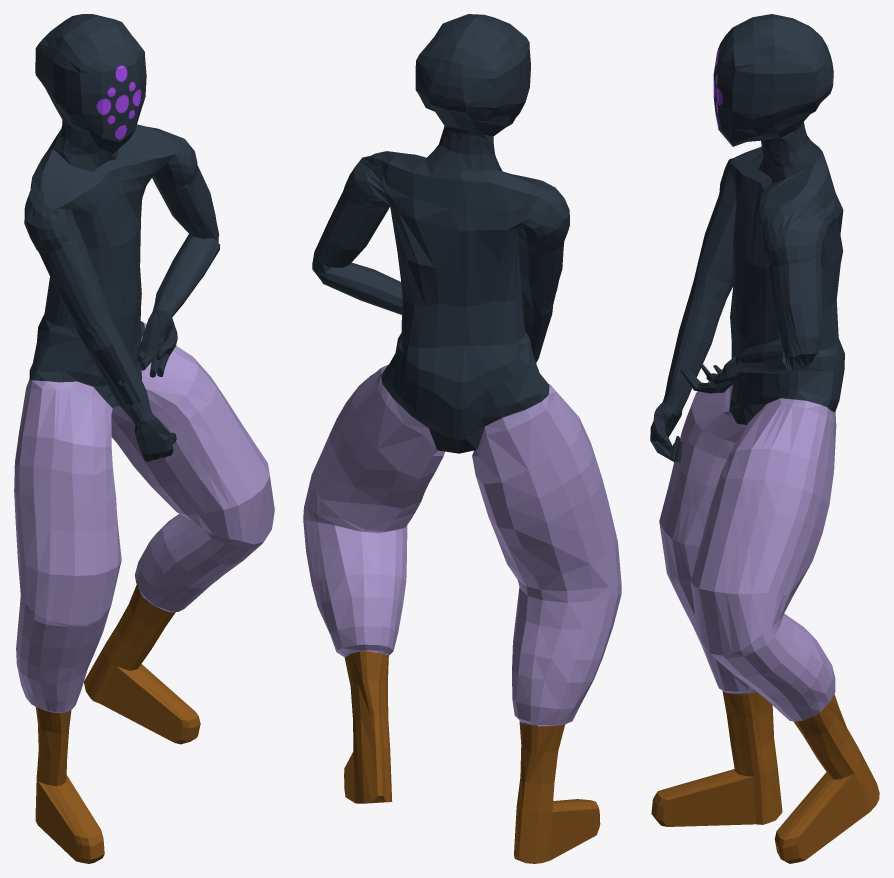
Rendered from Oracle_WL_000007.obj.
3 views of the same model, side by side, from view 1: azimuth 30°, elevation 25°; view 2: azimuth 150°, elevation 25°; view 3: azimuth 270°, elevation 25° (orthographic). The views are drawn at different scales.
Parts seen in each view (by area): view 1: Cube; view 2: Cube; view 3: Cube.
Boxes of the visible parts, <box> form: Cube: <box>14,14,274,863</box>; Cube: <box>303,14,621,863</box>; Cube: <box>650,14,879,863</box>.
Size of the model in its own units: 1.38 by 3.87 by 0.9681.
